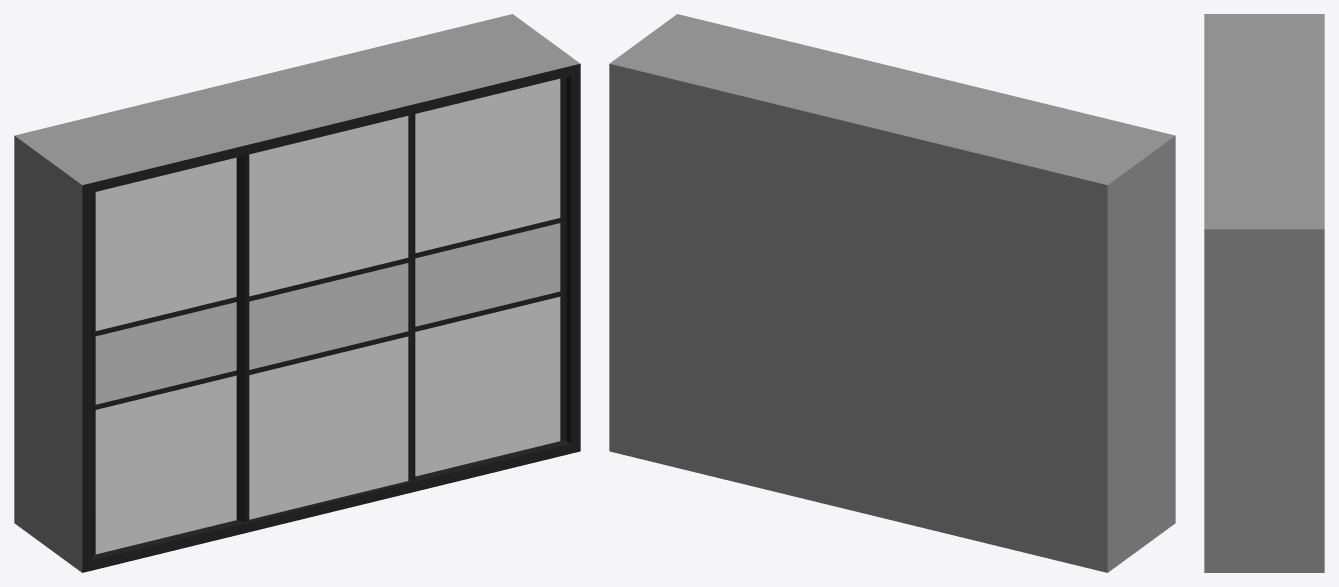
The model's file is cupboard_028.fbx.
3 views of the same model, side by side, from view 1: azimuth 30°, elevation 25°; view 2: azimuth 150°, elevation 25°; view 3: azimuth 270°, elevation 25° (orthographic). The views are drawn at different scales.
Parts seen in each view (by area): view 1: cupboard_028; view 2: cupboard_028; view 3: cupboard_028.
Boxes of the visible parts, left/top/right/bottom form: cupboard_028: left=14, top=14, right=580, bottom=572; cupboard_028: left=609, top=14, right=1175, bottom=572; cupboard_028: left=1204, top=14, right=1324, bottom=572.
Size of the model in its own units: 378 by 89.22 by 281.
